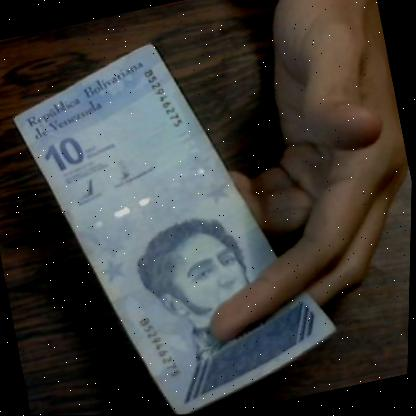ten-front-vef: (0, 16, 358, 416)
